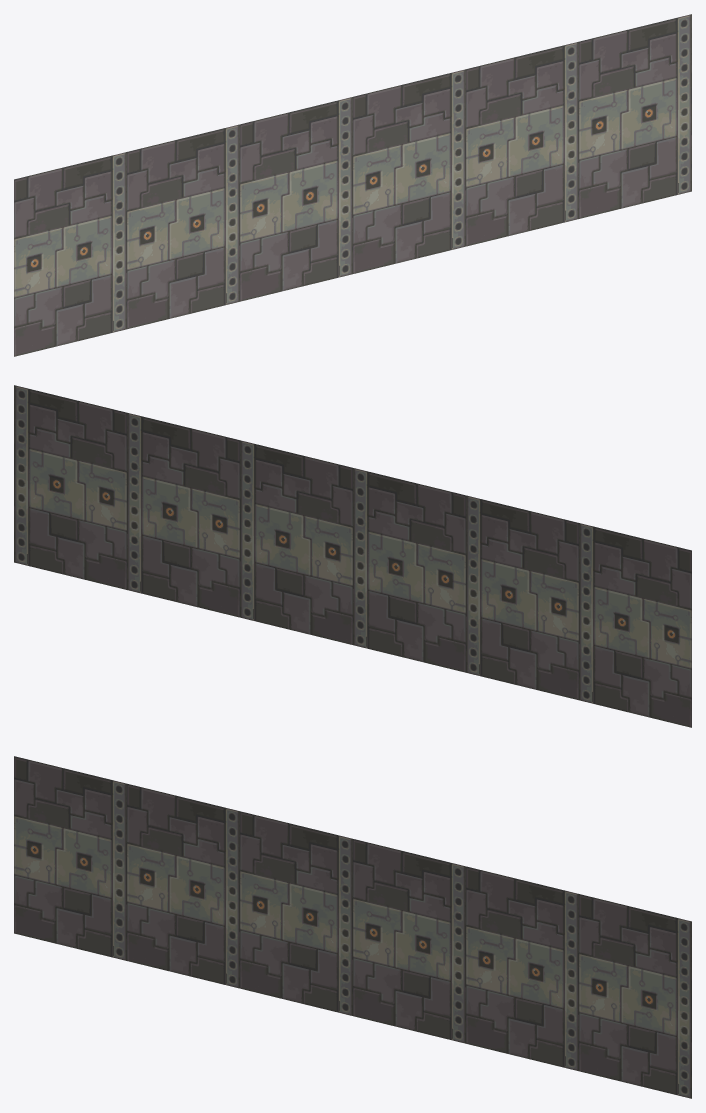
Rendered from Wall1-6.fbx.
3 renders of one model, top to bottom at view 1: azimuth 30°, elevation 25°; view 2: azimuth 150°, elevation 25°; view 3: azimuth 330°, elevation 25°, orthographic.
Visible parts, largest first — view 1: Wall1-6; view 2: Wall1-6; view 3: Wall1-6.
Part boxes in pixels (x1,y1,x2,y2): Wall1-6: [14, 14, 691, 356]; Wall1-6: [14, 385, 691, 727]; Wall1-6: [14, 756, 691, 1098].
Bounding box in the file's own units: 24 × 6 × 8.9e-07.
Materials: 1 (1 with a texture image).
